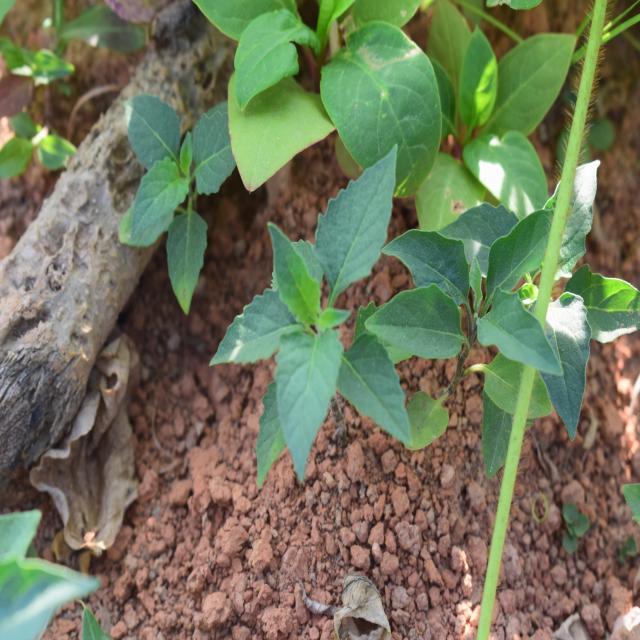Black_nightshade: (223, 177, 427, 452), (114, 90, 238, 314)
